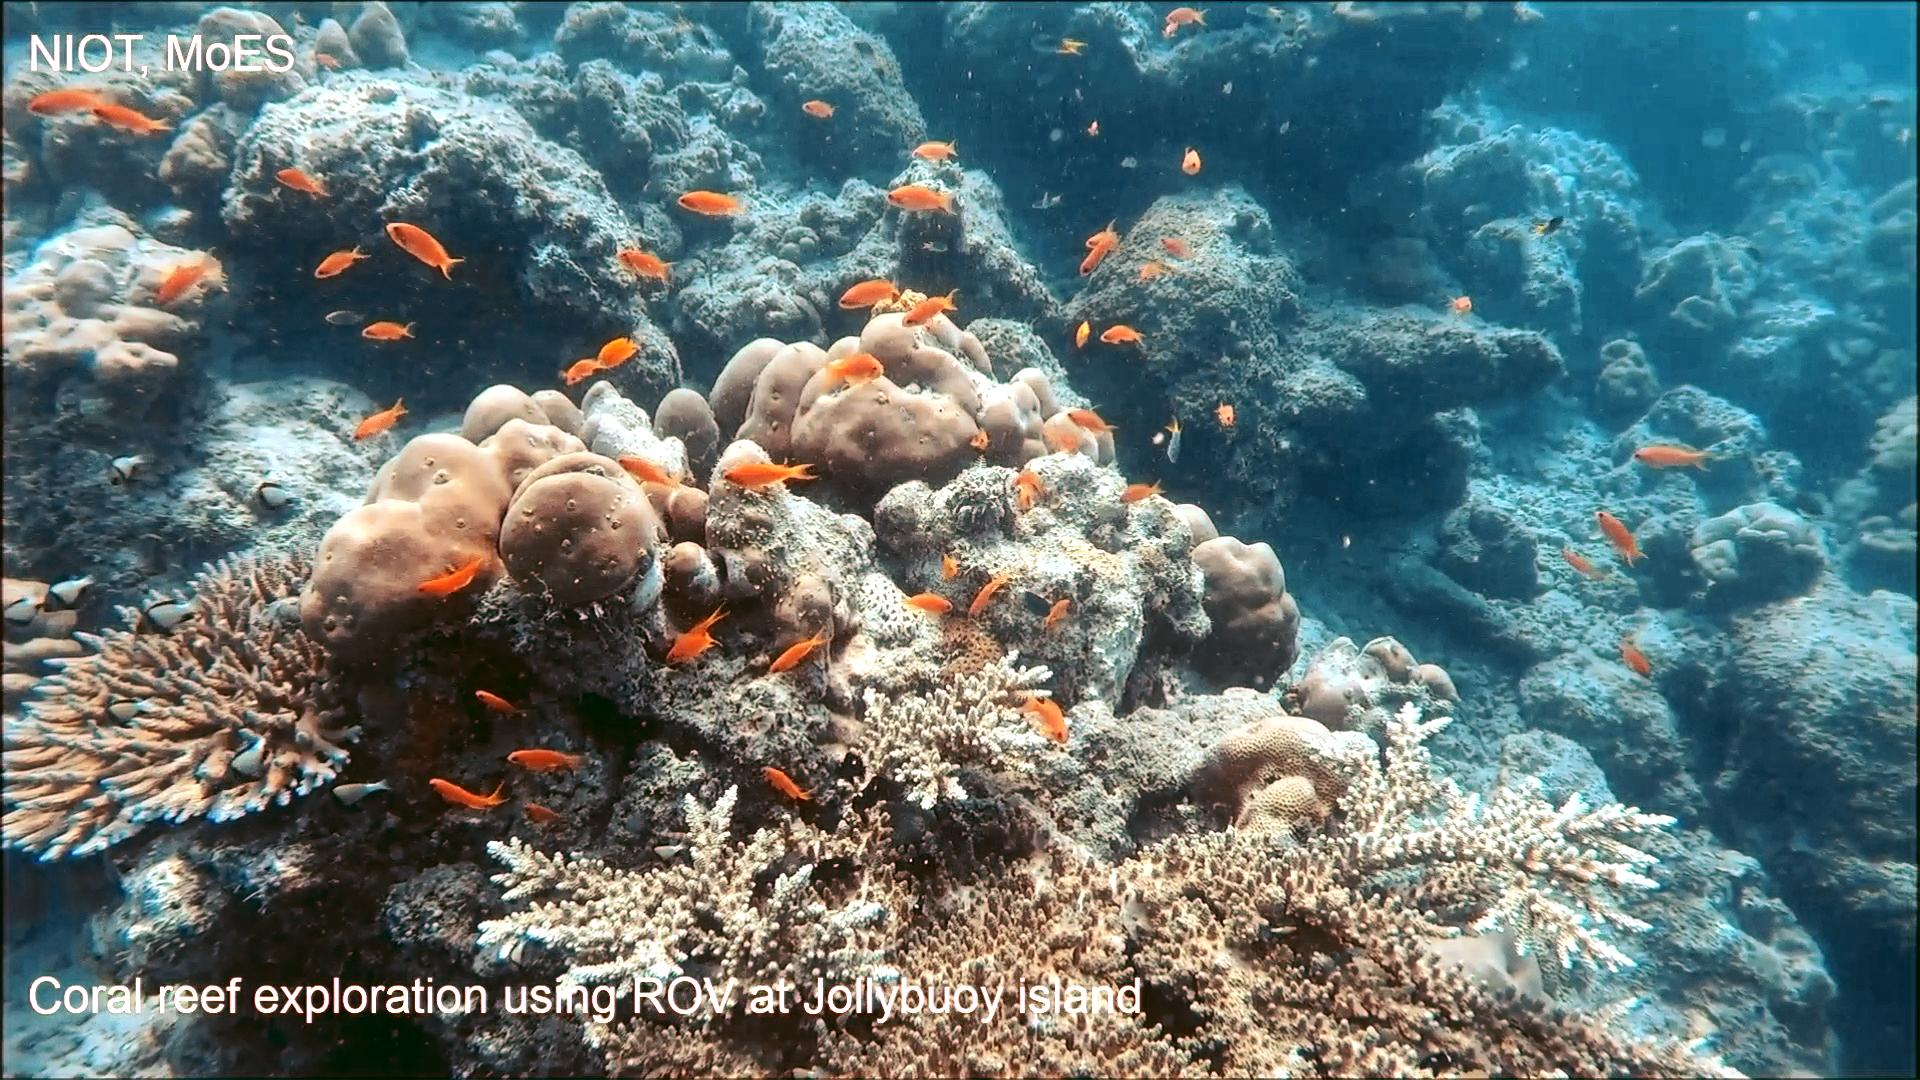Porites-Porites pukoensis: (294, 376, 680, 665), (680, 301, 1122, 497)
